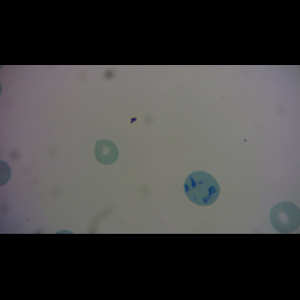aggregate reticulocyte: (183, 170, 222, 207)
erythrocyte: (268, 200, 300, 234), (93, 138, 120, 166)
